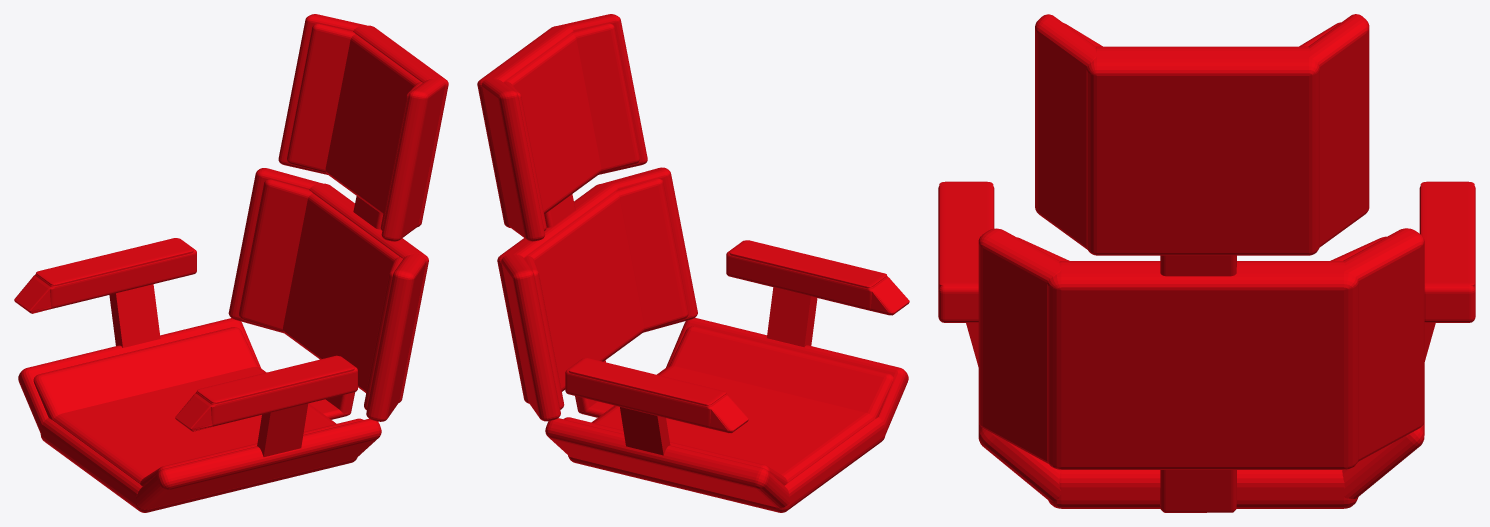
Rendered from SampleSeat.dae.
3 views of the same model, side by side, from view 1: azimuth 30°, elevation 25°; view 2: azimuth 150°, elevation 25°; view 3: azimuth 270°, elevation 25° (orthographic). The views are drawn at different scales.
Visible parts, largest first — view 1: SampleSeat; view 2: SampleSeat; view 3: SampleSeat.
Boxes of the visible parts, x1=… form: SampleSeat: x1=14, y1=14, x2=448, y2=512; SampleSeat: x1=477, y1=14, x2=909, y2=512; SampleSeat: x1=938, y1=14, x2=1475, y2=512.
Bounding box in the file's own units: 67.07 × 64.49 × 71.17.
